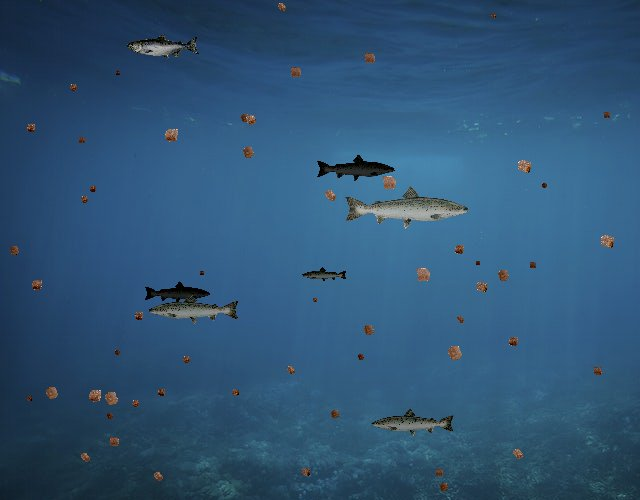Fish: (342, 184, 471, 230), (147, 293, 241, 327), (370, 407, 456, 438), (315, 153, 396, 182), (128, 33, 201, 60), (144, 280, 212, 305), (301, 267, 348, 283)
Pellet: (157, 122, 185, 150), (318, 184, 342, 208), (236, 140, 260, 164), (239, 109, 262, 132), (4, 240, 25, 261), (76, 191, 92, 207), (538, 179, 551, 192), (23, 393, 35, 405)
